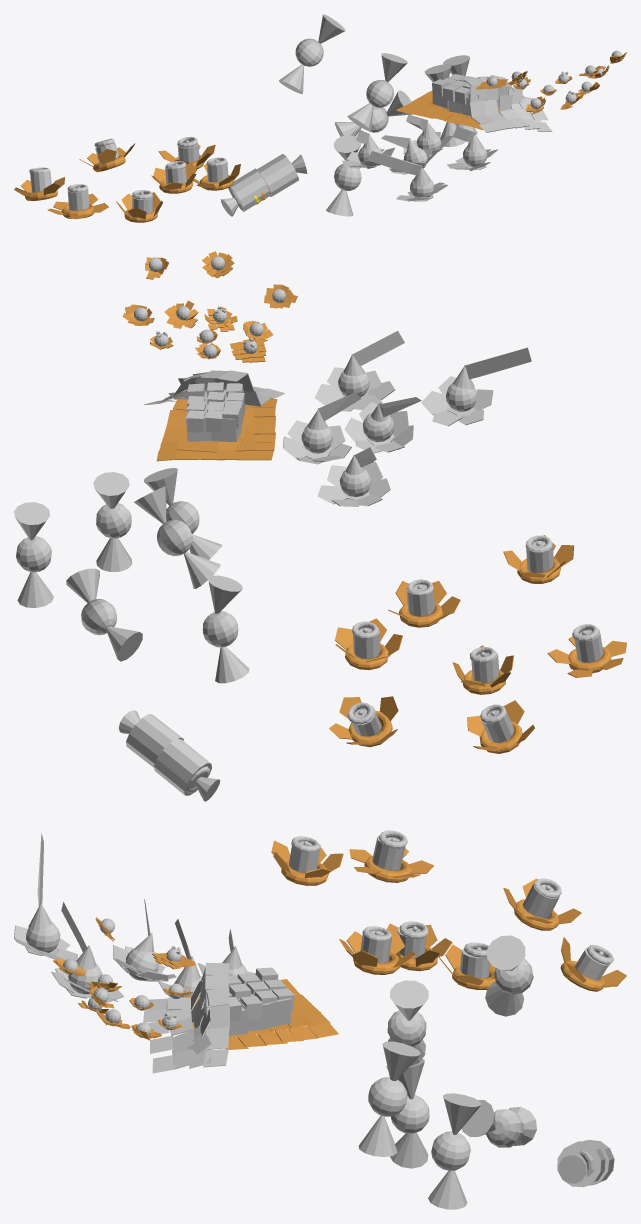
File: assorted candy.obj
3 renders of one model, top to bottom at view 1: azimuth 30°, elevation 25°; view 2: azimuth 150°, elevation 25°; view 3: azimuth 270°, elevation 25°, orthographic. The views are drawn at different scales.
Bounding box in the file's own units: 4.43 × 2.17 × 3.53.
